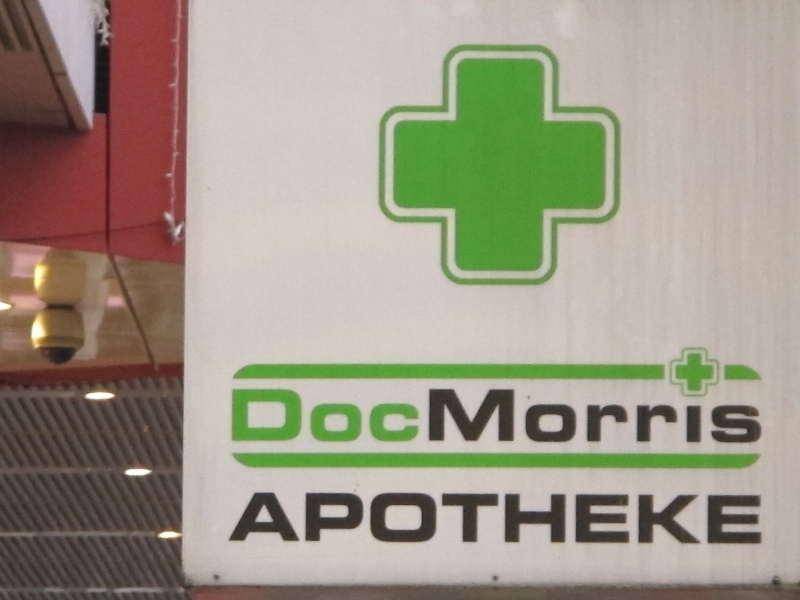text: (241, 388, 256, 445), (257, 388, 272, 445), (273, 388, 288, 445), (289, 388, 304, 445), (305, 388, 320, 445), (321, 388, 336, 445), (337, 388, 352, 445), (353, 388, 368, 445), (369, 388, 384, 445), (385, 388, 400, 445), (401, 388, 416, 445), (417, 388, 432, 445), (433, 388, 448, 445), (449, 388, 464, 445), (465, 388, 480, 445), (481, 388, 496, 445), (497, 388, 512, 445), (513, 388, 528, 445), (529, 388, 544, 445), (545, 388, 560, 445), (561, 388, 576, 445), (577, 388, 592, 445), (593, 388, 608, 445), (609, 388, 624, 445), (625, 388, 640, 445), (641, 388, 656, 445), (657, 388, 672, 445), (673, 388, 688, 445), (689, 388, 704, 445), (705, 388, 720, 445), (721, 388, 736, 445), (737, 388, 752, 445), (257, 493, 272, 547), (273, 493, 288, 547), (289, 493, 304, 547), (305, 493, 320, 547), (321, 493, 336, 547), (337, 493, 352, 547), (353, 493, 368, 547), (369, 493, 384, 547), (385, 493, 400, 547), (401, 493, 416, 547), (417, 493, 432, 547), (433, 493, 448, 547), (449, 493, 464, 547), (465, 493, 480, 547), (481, 493, 496, 547), (497, 493, 512, 547), (513, 493, 528, 547), (529, 493, 544, 547), (545, 493, 560, 547), (561, 493, 576, 547), (577, 493, 592, 547), (593, 493, 608, 547), (609, 493, 624, 547), (625, 493, 640, 547), (641, 493, 656, 547), (657, 493, 672, 547), (673, 493, 688, 547), (689, 493, 704, 547), (705, 493, 720, 547), (721, 493, 736, 547), (737, 493, 752, 547), (753, 493, 763, 547), (753, 388, 762, 445), (232, 388, 240, 445), (253, 493, 256, 547)
